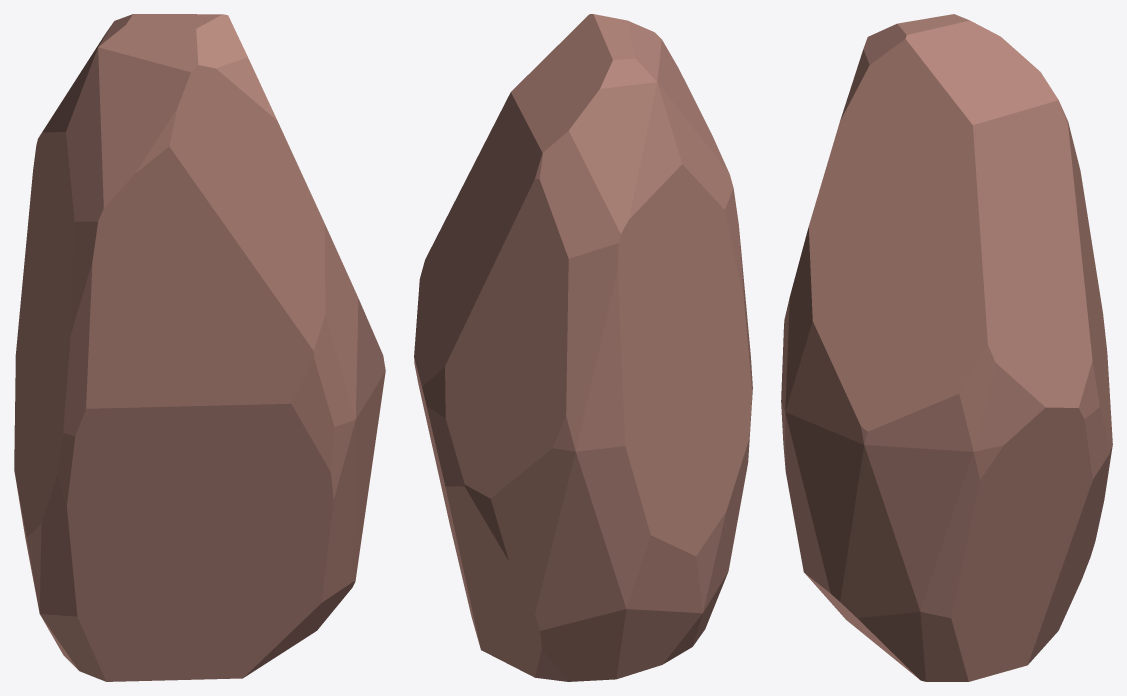
Rendered from Mesa_Rock_Big_01.fbx.
3 renders of one model, left to right at view 1: azimuth 30°, elevation 25°; view 2: azimuth 150°, elevation 25°; view 3: azimuth 270°, elevation 25°, orthographic. The views are drawn at different scales.
Visible parts, largest first — view 1: Icosphere.056; view 2: Icosphere.056; view 3: Icosphere.056.
Part boxes in pixels (left/top/right/bottom): Icosphere.056: left=14, top=14, right=385, bottom=681; Icosphere.056: left=414, top=14, right=752, bottom=681; Icosphere.056: left=781, top=14, right=1112, bottom=681.
Bounding box in the file's own units: 104 × 201 × 99.82.
